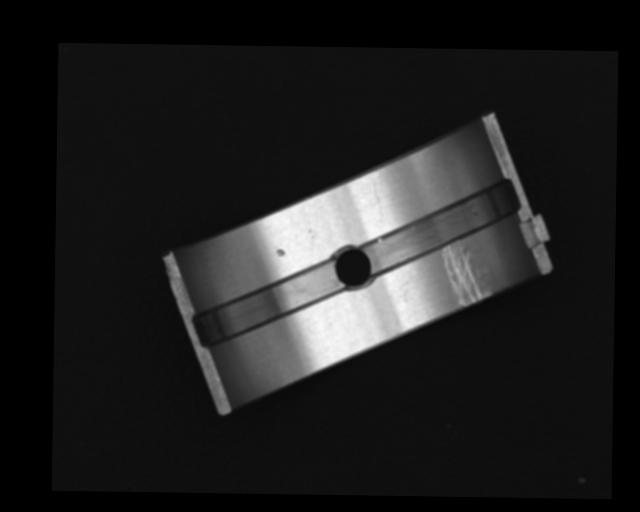bruise: (274, 247, 285, 257)
gap: (361, 176, 517, 274), (194, 262, 342, 348)
hole: (333, 245, 372, 289)
nick: (371, 176, 383, 214)
scratch: (441, 241, 491, 307)
